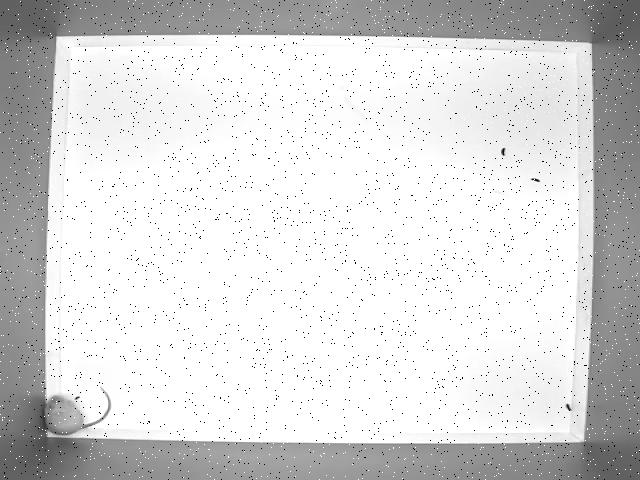Tikus: (43, 385, 111, 439)
